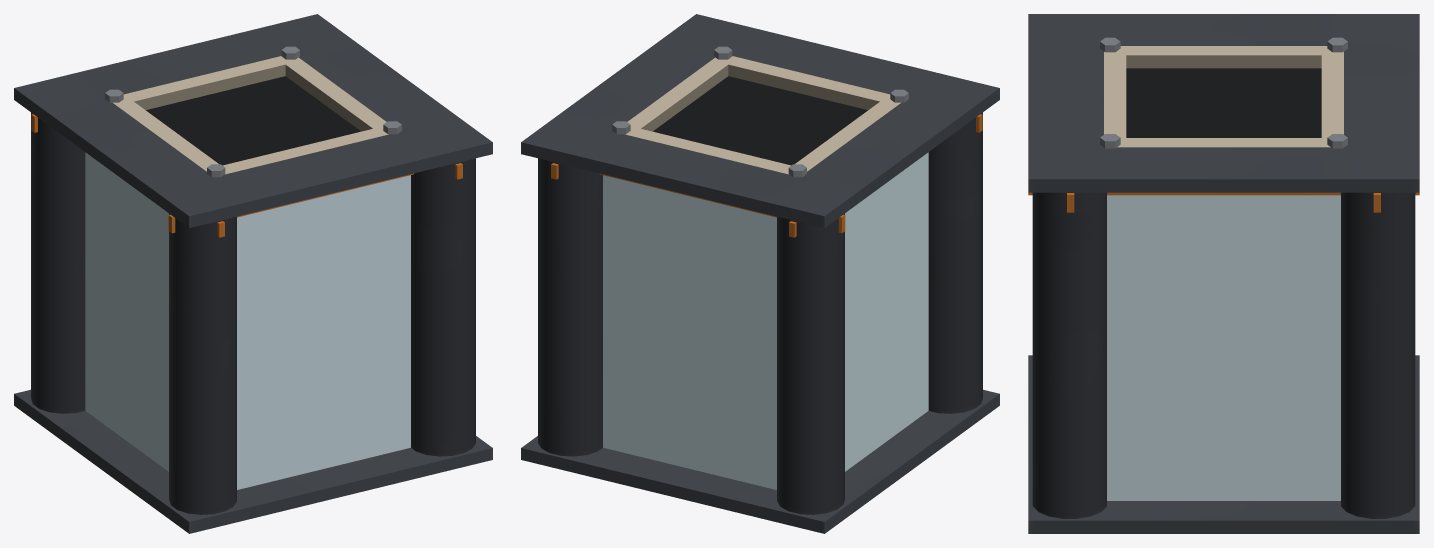
File: item.obj
3 views of the same model, side by side, from view 1: azimuth 30°, elevation 25°; view 2: azimuth 150°, elevation 25°; view 3: azimuth 270°, elevation 25° (orthographic). The views are drawn at different scales.
Visible parts, largest first — view 1: glass_south__glass_south, deck_top__deck_top_plate, glass_west__glass_west, post_sw__post_sw, post_se__post_se, post_nw__post_nw, deck_bottom__deck_bottom_plate, deck_top__deck_top_throat, deck_top__deck_top_lining, deck_top__deck_top_studs; view 2: glass_north__glass_north, deck_top__deck_top_plate, glass_west__glass_west, post_nw__post_nw, post_ne__post_ne, post_sw__post_sw, deck_bottom__deck_bottom_plate, deck_top__deck_top_throat, deck_top__deck_top_lining, deck_top__deck_top_studs; view 3: glass_east__glass_east, deck_top__deck_top_plate, post_ne__post_ne, post_se__post_se, deck_top__deck_top_throat, deck_bottom__deck_bottom_plate, deck_top__deck_top_lining, deck_top__deck_top_studs, band_east__band_east.
Part boxes in pixels (bbox=[...]): glass_south__glass_south: bbox=[237, 175, 410, 489]; deck_top__deck_top_plate: bbox=[14, 14, 492, 227]; glass_west__glass_west: bbox=[85, 152, 168, 471]; post_sw__post_sw: bbox=[169, 213, 236, 514]; post_se__post_se: bbox=[411, 158, 475, 456]; post_nw__post_nw: bbox=[31, 112, 85, 413]; deck_bottom__deck_bottom_plate: bbox=[14, 389, 492, 533]; deck_top__deck_top_throat: bbox=[146, 76, 360, 165]; deck_top__deck_top_lining: bbox=[113, 56, 388, 174]; deck_top__deck_top_studs: bbox=[105, 46, 401, 177]; glass_north__glass_north: bbox=[603, 175, 776, 489]; deck_top__deck_top_plate: bbox=[521, 14, 999, 227]; glass_west__glass_west: bbox=[845, 152, 928, 471]; post_nw__post_nw: bbox=[777, 213, 844, 514]; post_ne__post_ne: bbox=[538, 158, 602, 456]; post_sw__post_sw: bbox=[928, 112, 982, 413]; deck_bottom__deck_bottom_plate: bbox=[521, 389, 999, 533]; deck_top__deck_top_throat: bbox=[653, 76, 867, 165]; deck_top__deck_top_lining: bbox=[625, 56, 900, 174]; deck_top__deck_top_studs: bbox=[612, 46, 908, 177]; glass_east__glass_east: bbox=[1107, 195, 1340, 500]; deck_top__deck_top_plate: bbox=[1028, 14, 1419, 192]; post_ne__post_ne: bbox=[1341, 192, 1415, 518]; post_se__post_se: bbox=[1032, 192, 1106, 518]; deck_top__deck_top_throat: bbox=[1126, 68, 1321, 137]; deck_bottom__deck_bottom_plate: bbox=[1028, 355, 1419, 533]; deck_top__deck_top_lining: bbox=[1104, 46, 1343, 147]; deck_top__deck_top_studs: bbox=[1100, 37, 1347, 148]; band_east__band_east: bbox=[1028, 192, 1419, 195].
Size of the model in its own units: 1 by 1.04 by 1.
